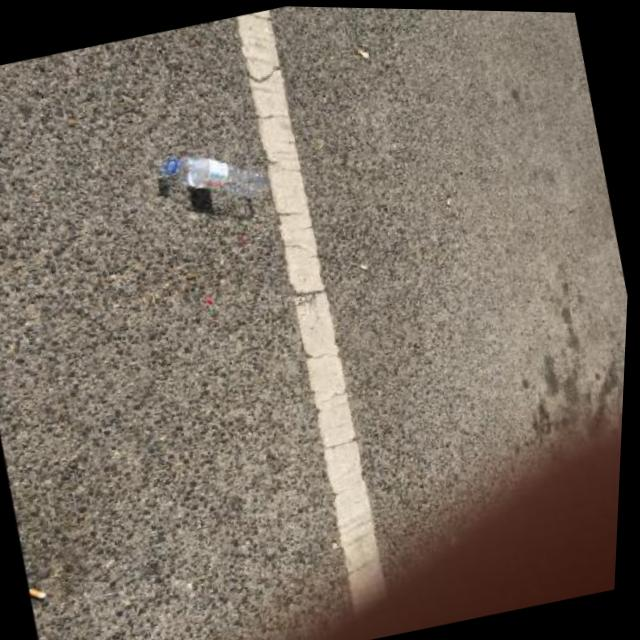plastic: (153, 136, 274, 217)
